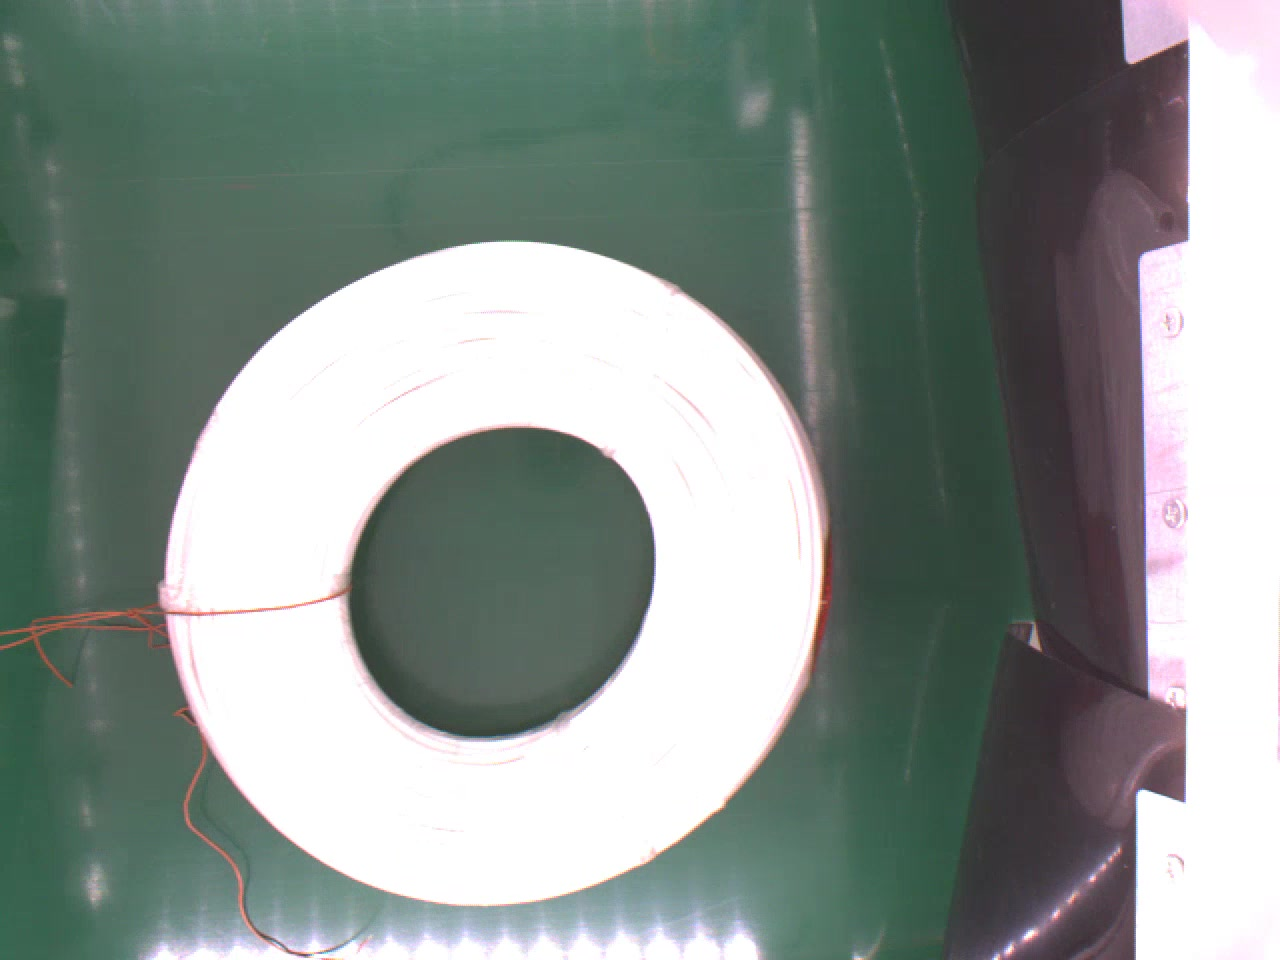white: (160, 233, 838, 905)
